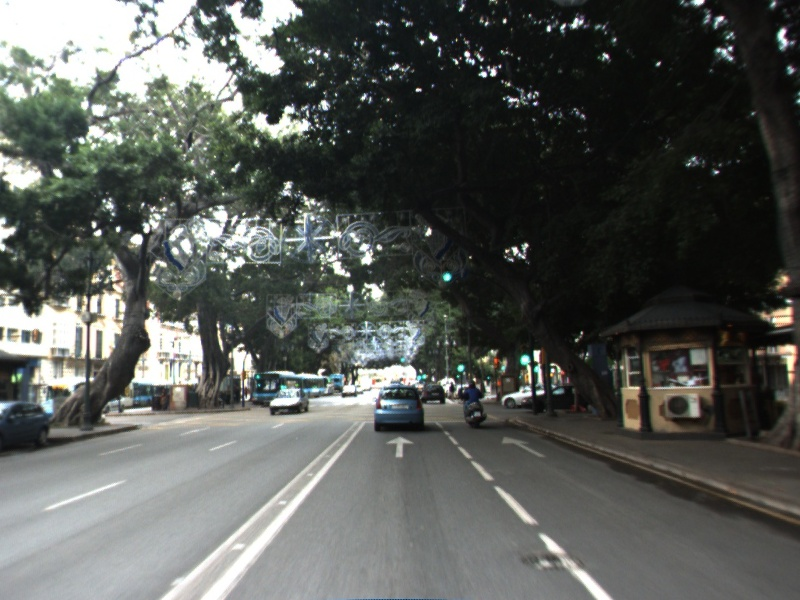STRAIGHT: (499, 434, 549, 459), (384, 434, 417, 459)
